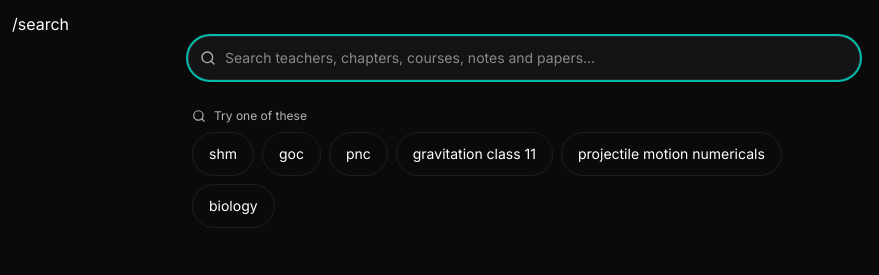
Test case: grouped results (the five groups) › shows the faculty card in the asked-for shape
The image size is (879, 275).
Type "abj" into the dropdown at (524, 58), box [188,36,860,80]
Wait 295 ms
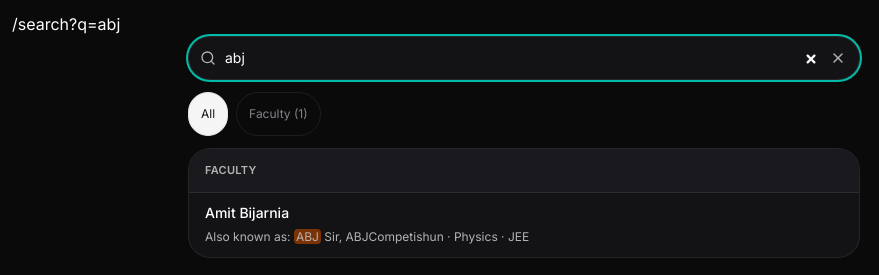
Result: the option shows "Amit Bijarnia" at [189,193,859,257]
Result: the option shows "Also known as: ABJ Sir" at [189,193,859,257]
Result: the option shows "Competishun · Physics · JEE" at [189,193,859,257]
